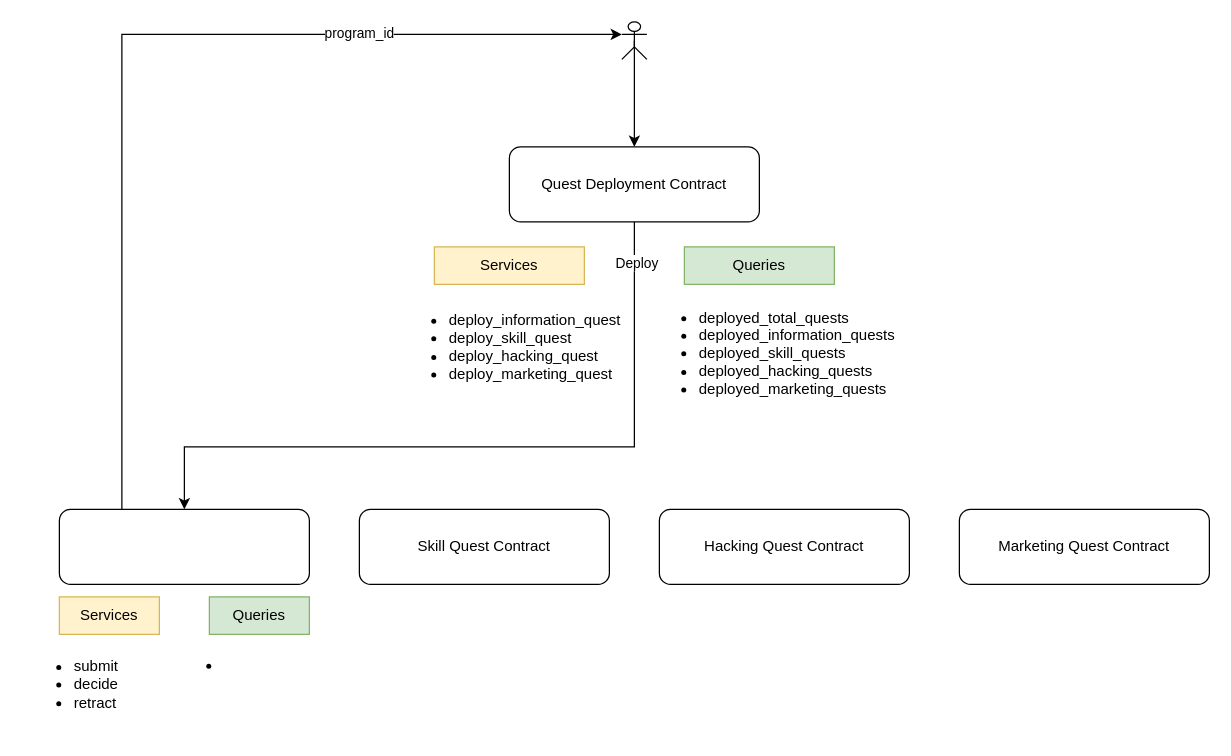
Some shapes in this 1231 by 756 pixel diagram are drawn without their labels. The shapes that lost their labels are listed below. From the top down, each one's box as (x1, y1, x2, y2) in pixels, then its label:
(621, 21, 647, 59): Actor
(58, 508, 309, 584): Information Quest Contract
